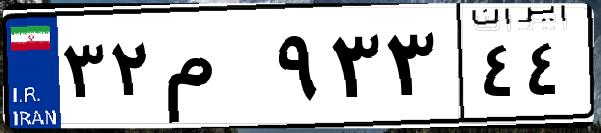2: (110, 28, 158, 98)
3: (385, 28, 445, 110), (330, 28, 385, 110), (57, 26, 110, 100)
4: (475, 38, 525, 113), (525, 38, 570, 115)
9: (270, 28, 330, 110)
م: (158, 20, 270, 120)
